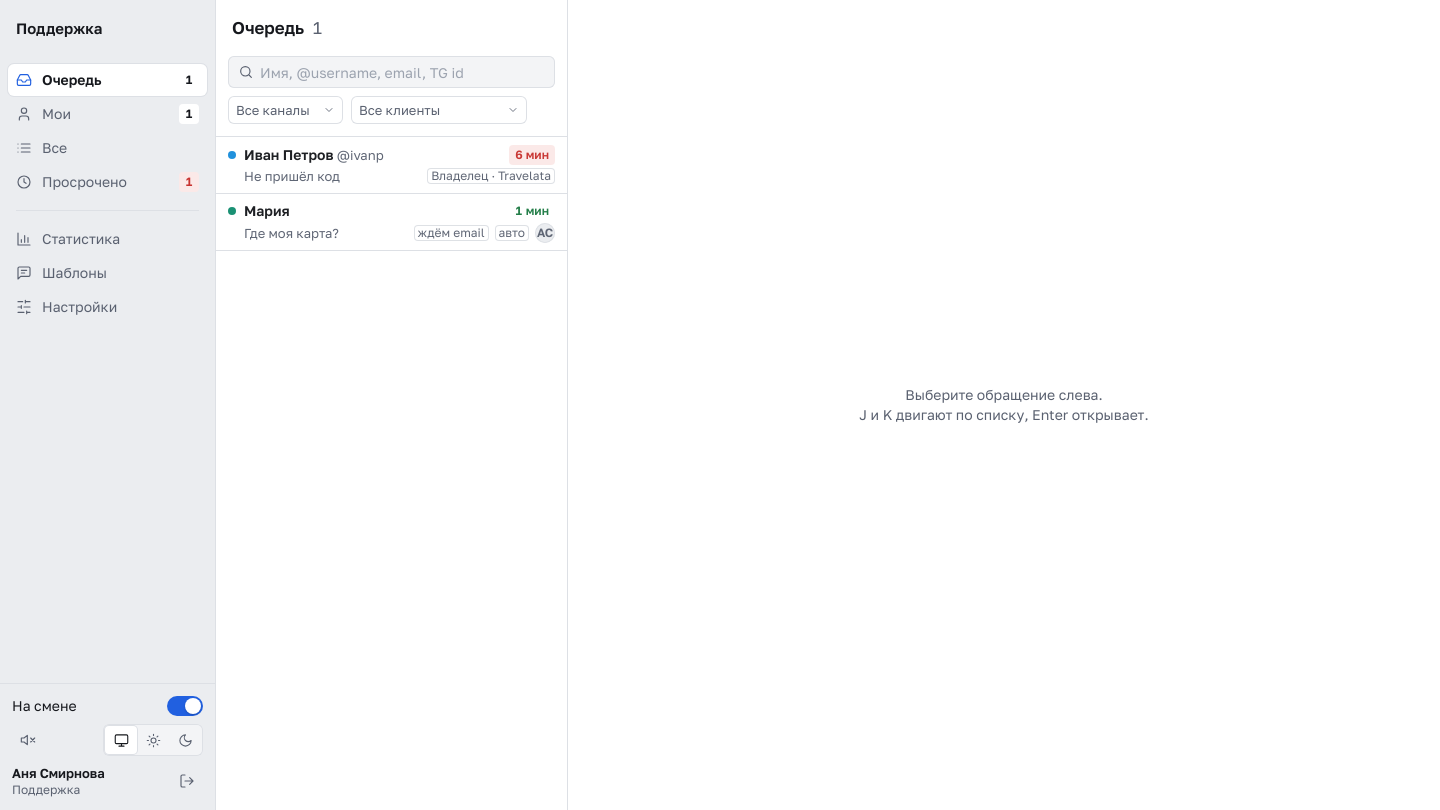
Scenario: Inbox › shows the mark in the row and the header; tickets without one show nothing
The width and height of the screenshot is (1440, 810).
Check: the text "Владелец · Travelata" is shown, box [427, 168, 555, 184]
Click the link "Иван Петров @ivanp 6 мин Не пришёл код Владелец · Travelata" at (289, 154), box [216, 137, 567, 193]
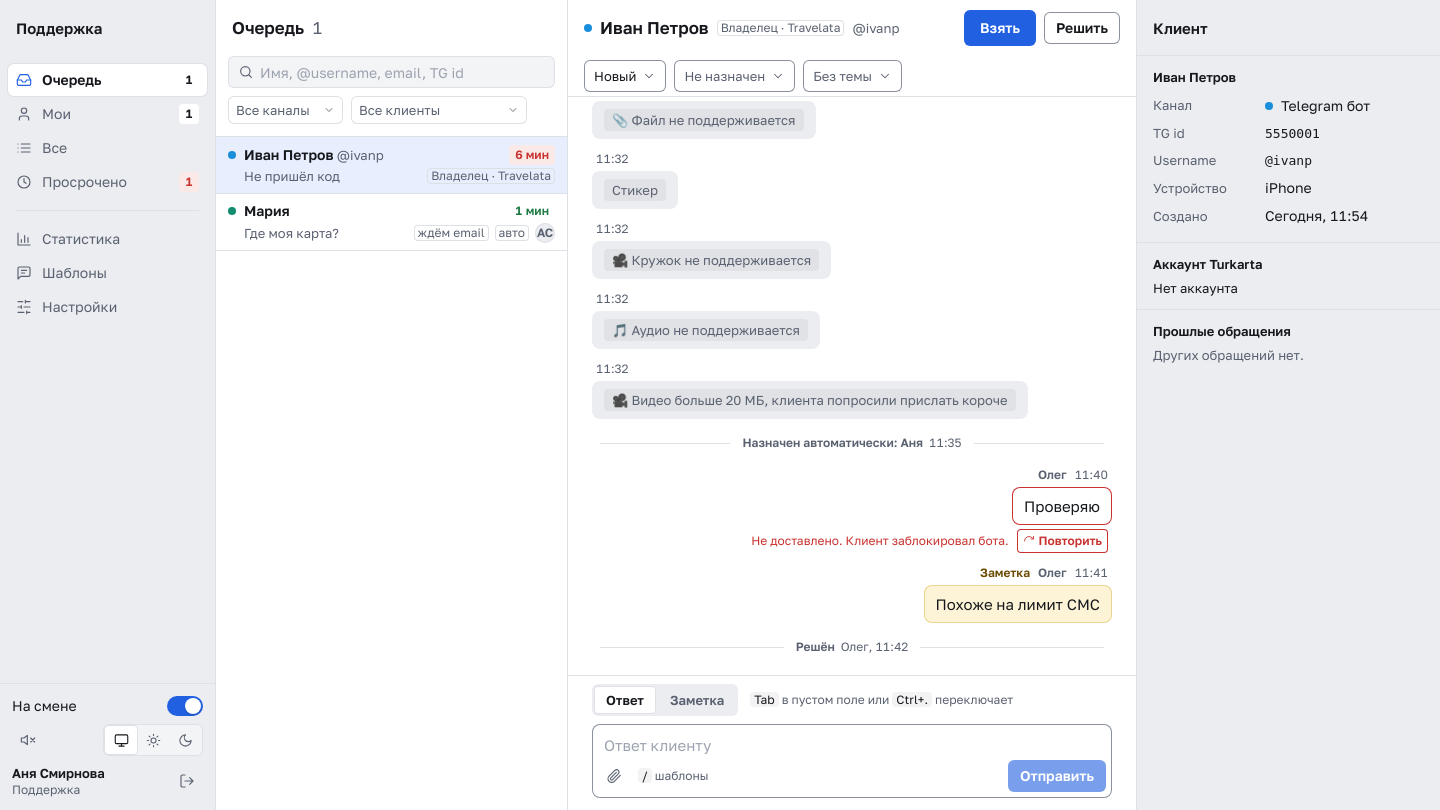
Check: the text "Владелец · Travelata" is shown 2 times, box [427, 168, 555, 184]; [717, 20, 844, 36]
